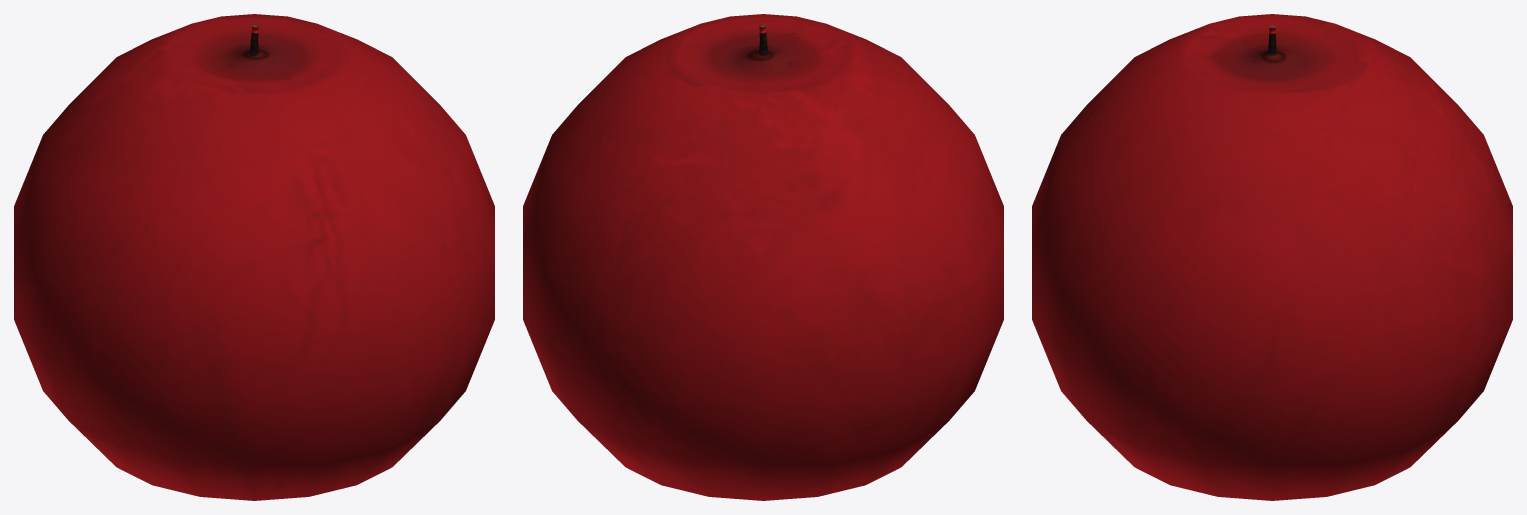
The model's file is round_candle.fbx.
3 renders of one model, left to right at view 1: azimuth 30°, elevation 25°; view 2: azimuth 150°, elevation 25°; view 3: azimuth 270°, elevation 25°, orthographic.
Parts seen in each view (by area): view 1: round_candle; view 2: round_candle; view 3: round_candle.
Part boxes in pixels (left/top/right/bottom): round_candle: left=14, top=14, right=494, bottom=500; round_candle: left=523, top=14, right=1003, bottom=500; round_candle: left=1032, top=14, right=1512, bottom=500.
Size of the model in its own units: 16.87 by 15.53 by 16.61.
